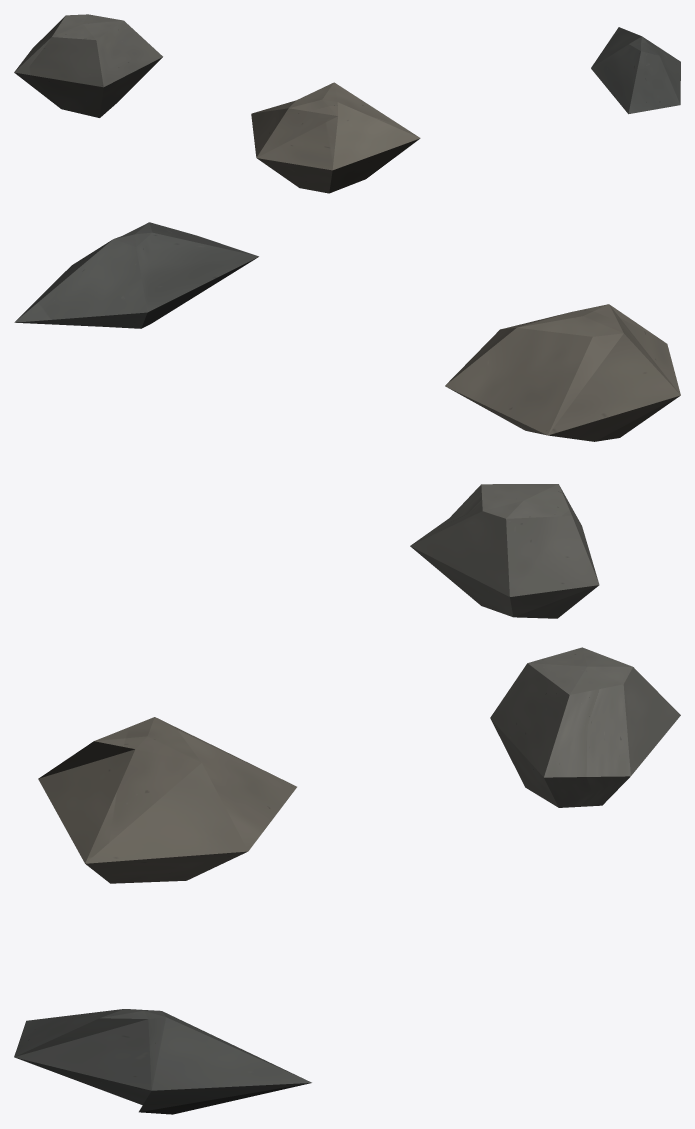
Rendered from DecorativeRockFormation3A.glb.
The picture shows the model from 3 angles, top to bottom: view 1: azimuth 30°, elevation 25°; view 2: azimuth 150°, elevation 25°; view 3: azimuth 270°, elevation 25°; orthographic projection. The views are drawn at different scales.
Visible parts, largest first — view 1: DecorativeRockFormation3A; view 2: DecorativeRockFormation3A; view 3: DecorativeRockFormation3A.
Boxes of the visible parts, box(x1,y1,x2,y2) form: DecorativeRockFormation3A: box(14, 14, 680, 193); DecorativeRockFormation3A: box(14, 222, 680, 618); DecorativeRockFormation3A: box(14, 647, 680, 1114).
Bounding box in the file's own units: 1.82 × 0.2749 × 1.29.
9 materials, 9 textured.
